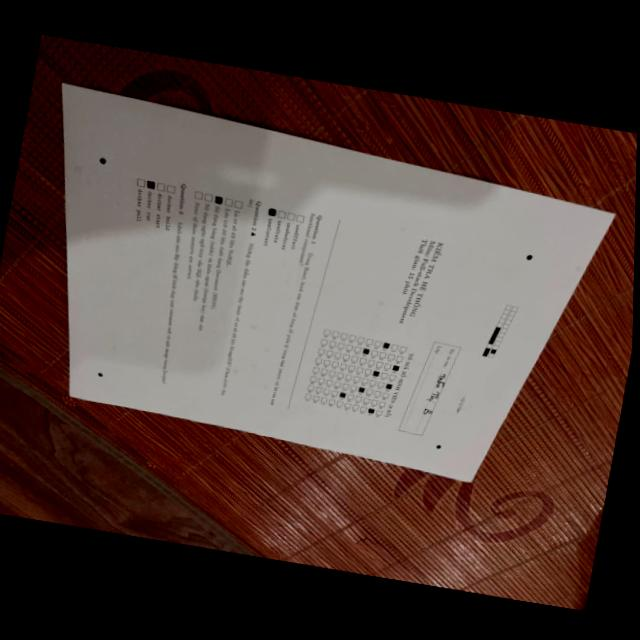Markers: (98, 156, 106, 164), (526, 253, 533, 260), (96, 371, 103, 377), (435, 444, 441, 449)
